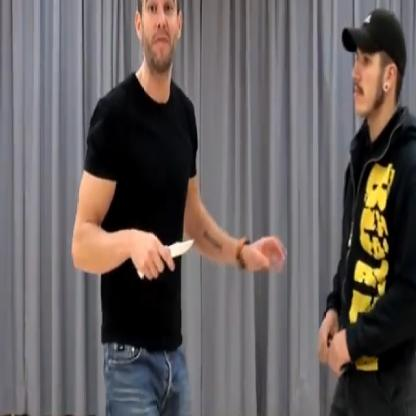knife: (132, 227, 196, 283)
